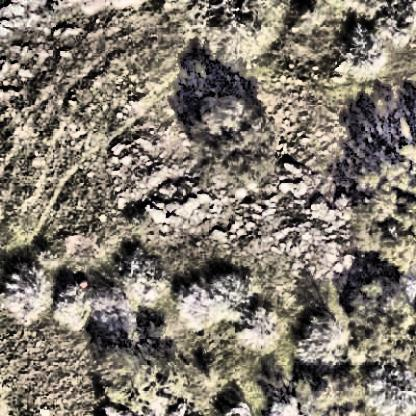tree-top: (183, 92, 292, 204), (341, 137, 416, 277), (339, 275, 416, 371), (92, 341, 195, 404), (192, 1, 268, 71), (107, 243, 177, 311), (1, 257, 65, 327), (290, 365, 377, 416), (168, 272, 226, 334), (333, 23, 394, 80), (294, 309, 350, 367), (360, 358, 416, 416), (232, 302, 286, 356)
